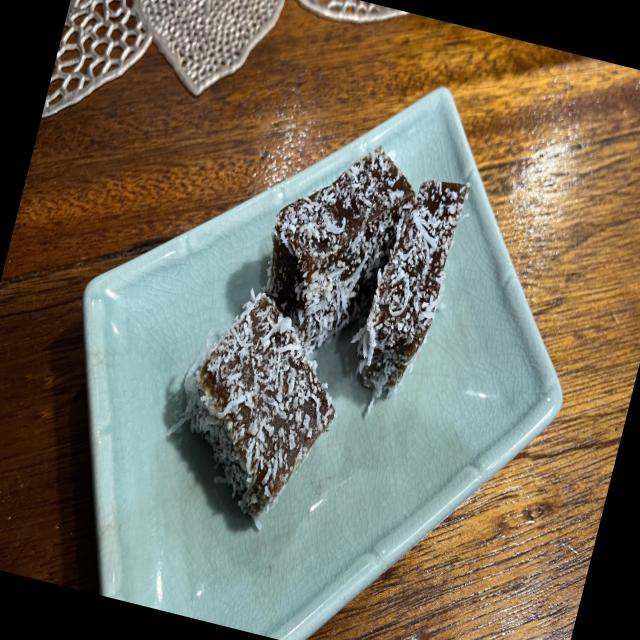kaswi: (266, 148, 467, 398), (180, 292, 334, 517), (266, 147, 414, 352)
